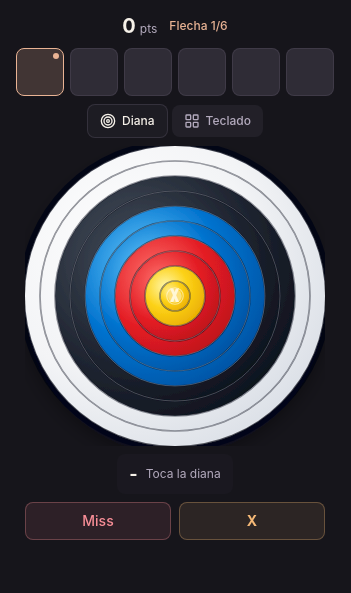
Test case: EndInput › score flow from TargetFace › shows undo button after entering first arrow
Click the button named "diez de oro" at point(252, 521), box [179, 502, 325, 540]
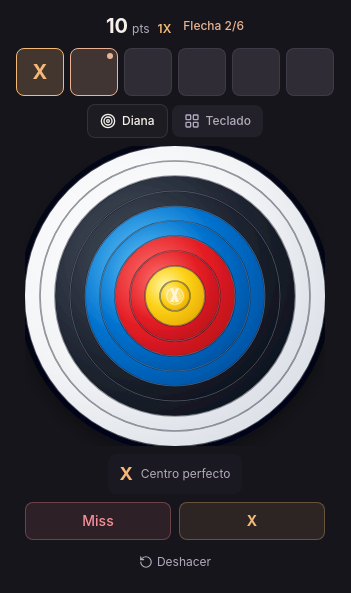
Check: the button "Deshacer" is shown, box [127, 548, 223, 576]
